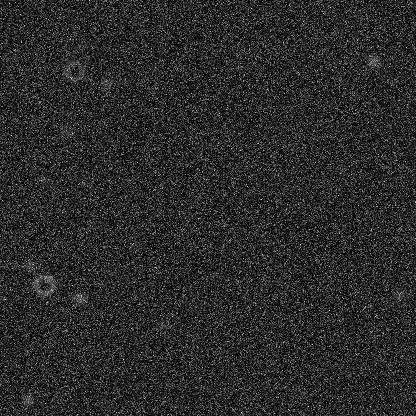Ring: (62, 58, 86, 82), (32, 273, 56, 297)
Spot: (390, 286, 406, 302), (58, 123, 74, 139), (19, 392, 35, 408), (95, 116, 111, 132), (303, 27, 319, 43), (154, 317, 170, 333), (187, 196, 203, 212), (97, 75, 113, 91), (365, 53, 381, 69), (36, 172, 52, 188), (77, 173, 93, 189), (21, 257, 37, 273), (72, 290, 88, 306), (124, 239, 140, 255)
